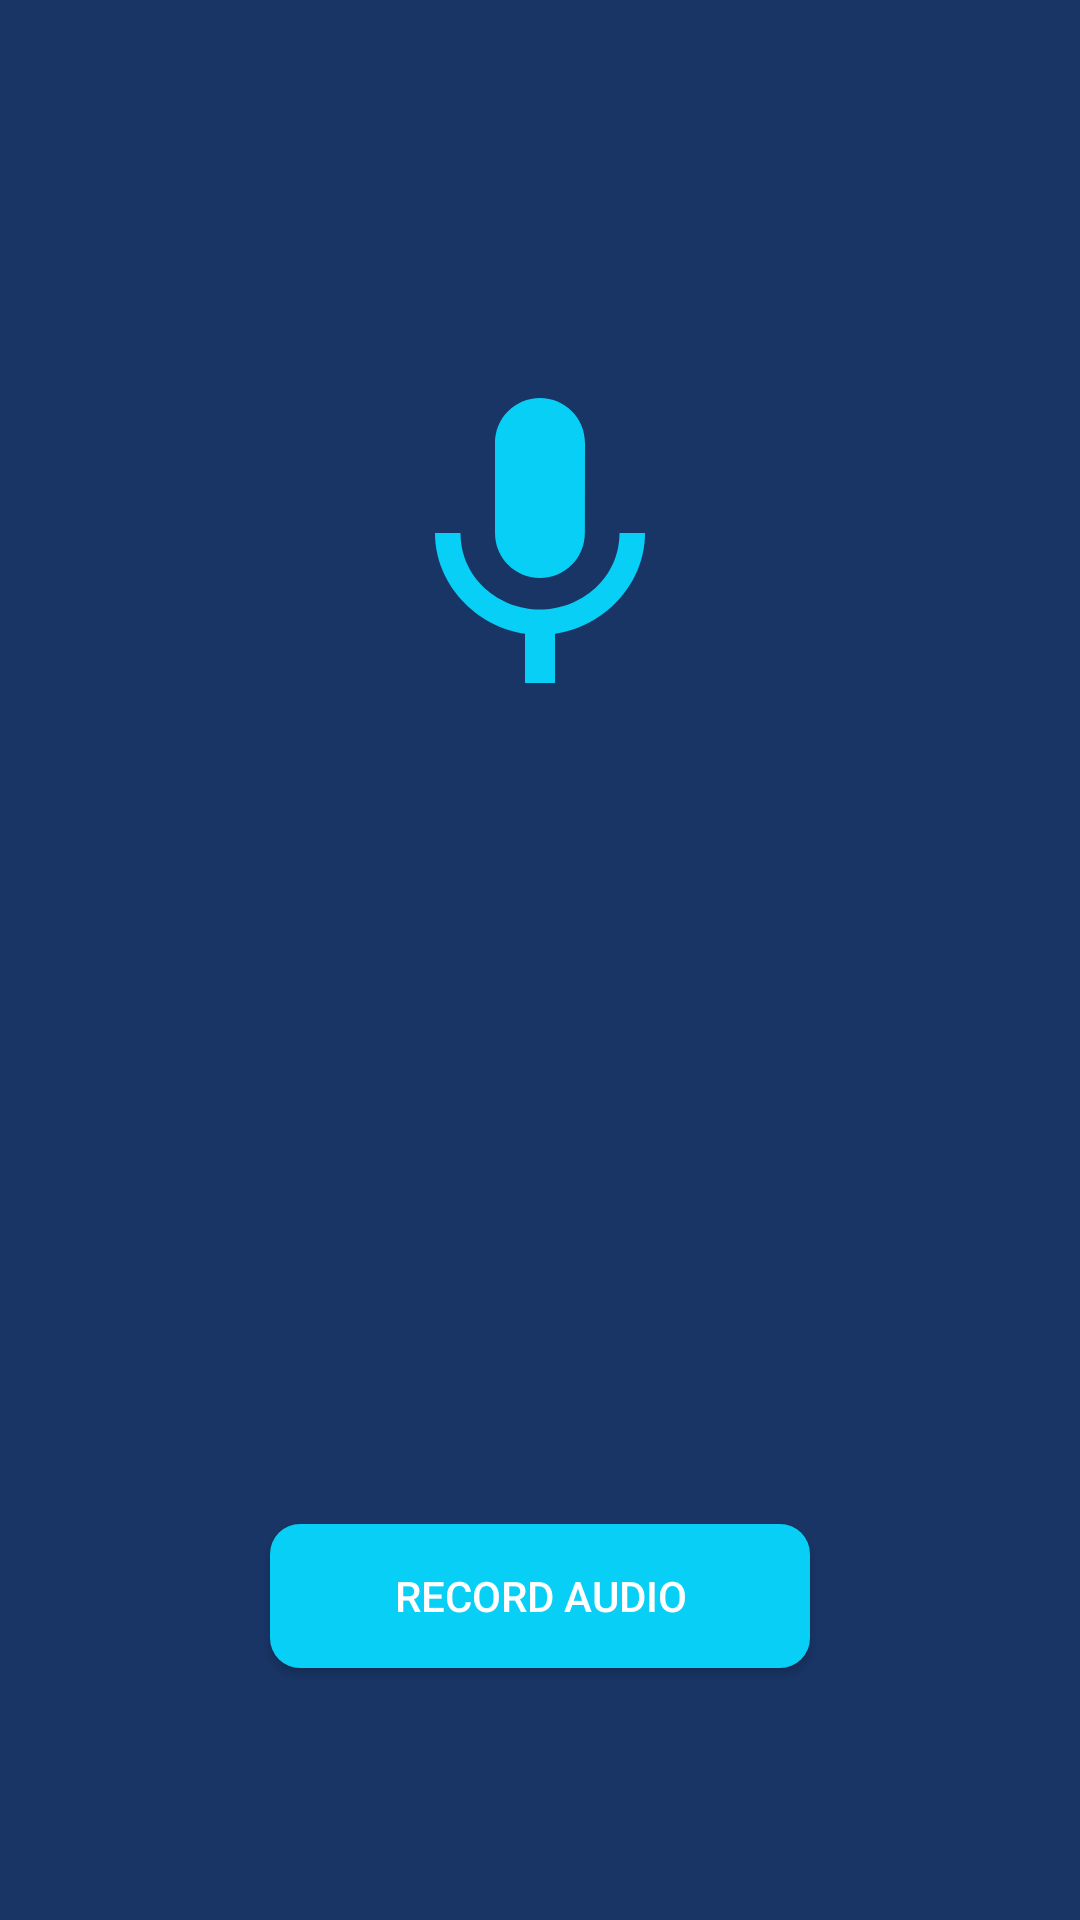

Screen size 1080×1920. Icon name, then its box in pixels as (x1, y1, x2, y2):
mic: (435, 398, 645, 683)
